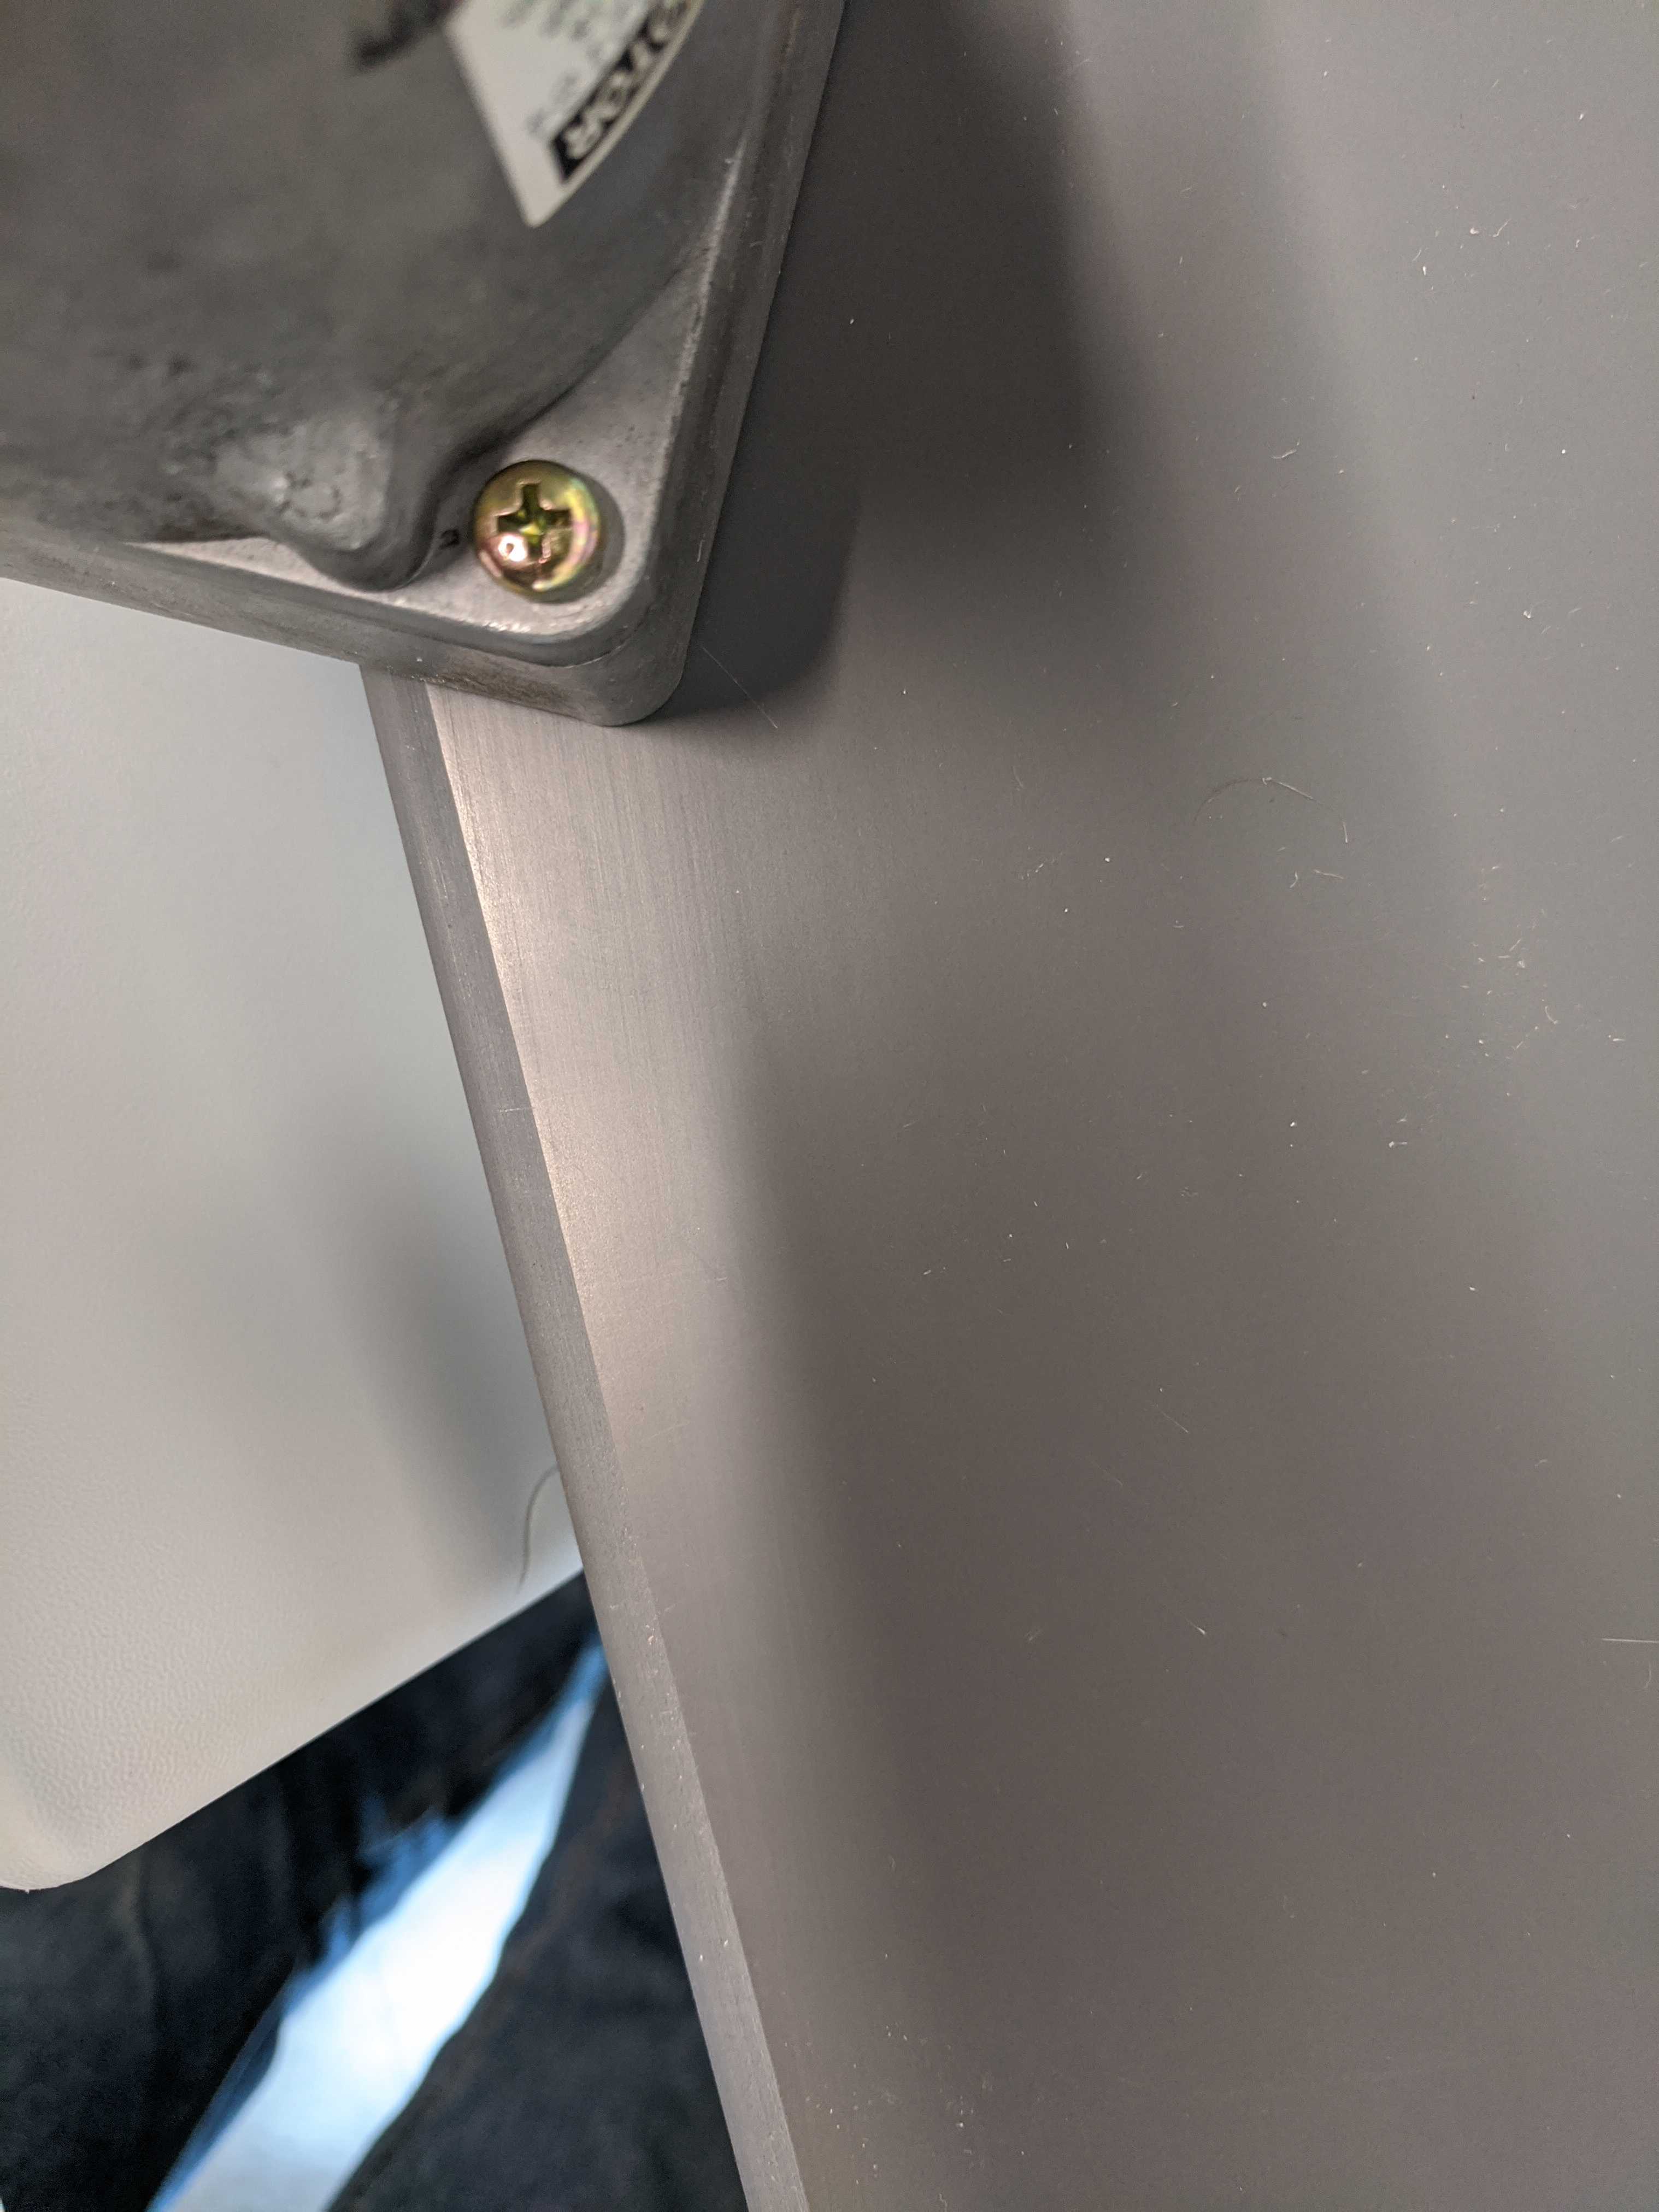cross_recessed_screw: (434, 437, 612, 585)
